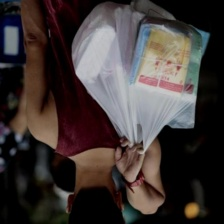plastic_bag: (69, 0, 214, 160)
